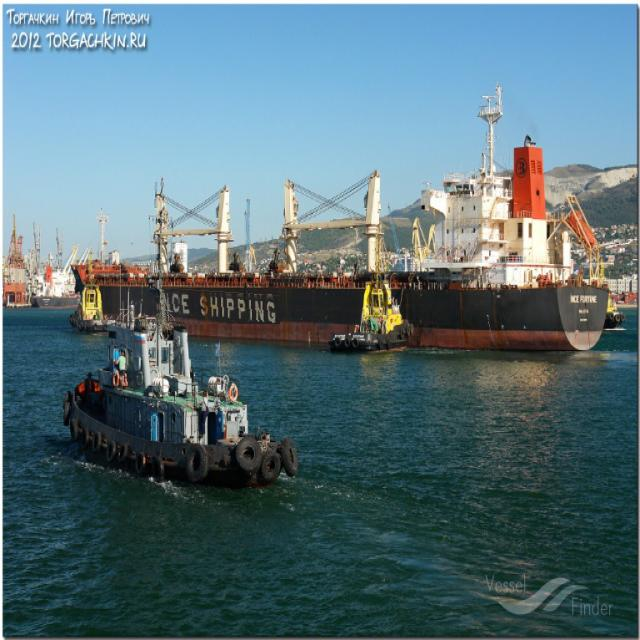OCR: (156, 287, 280, 324)
